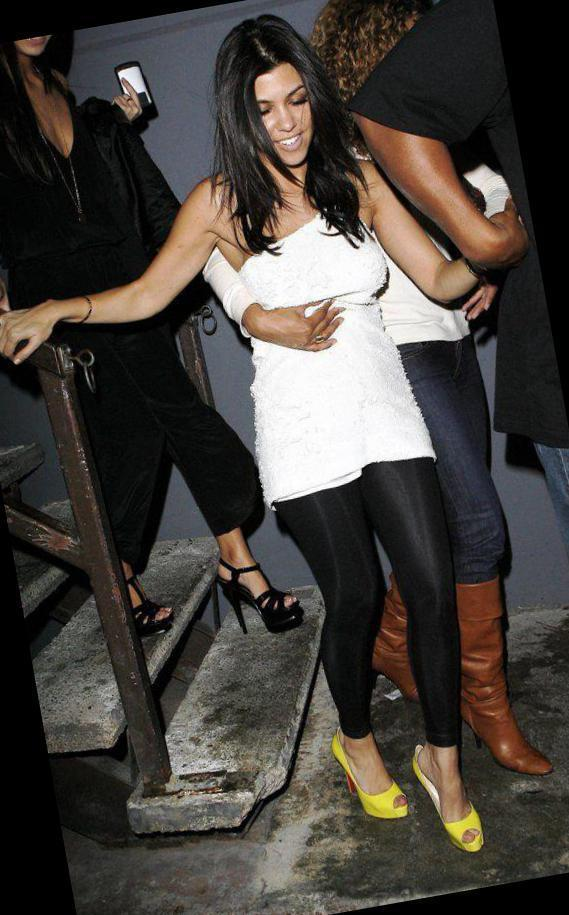Drunk: (241, 62, 322, 179)
